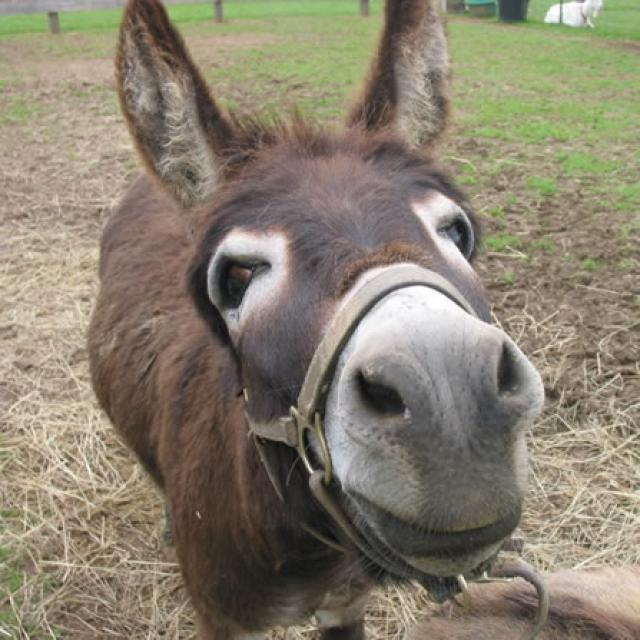Donkey: (90, 0, 546, 640)
